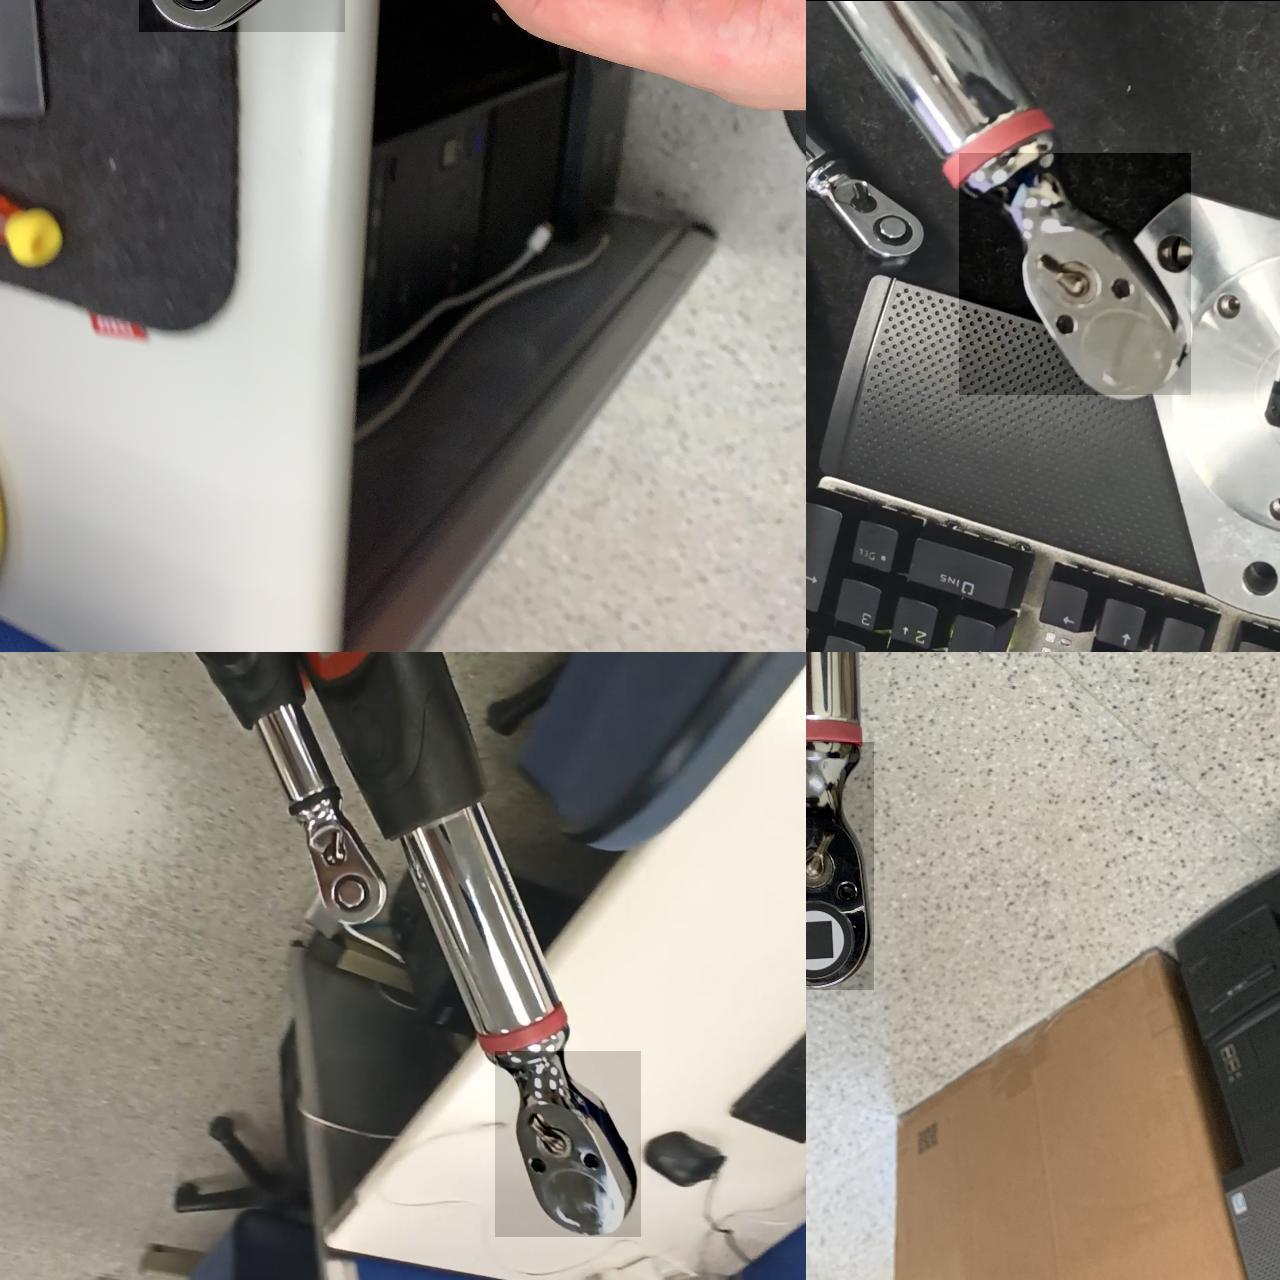Tool: (958, 152, 1190, 394), (494, 1050, 640, 1236), (806, 741, 873, 989), (817, 158, 921, 280), (298, 809, 384, 923), (137, 0, 344, 31)
